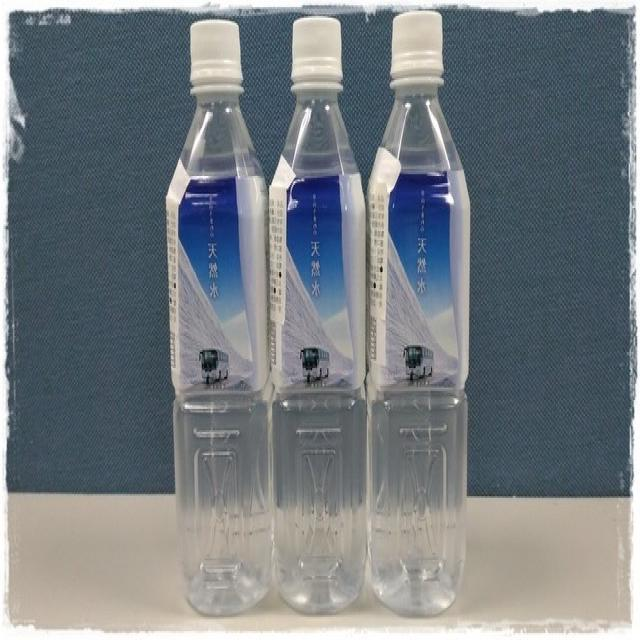plastic: (170, 11, 472, 619)
